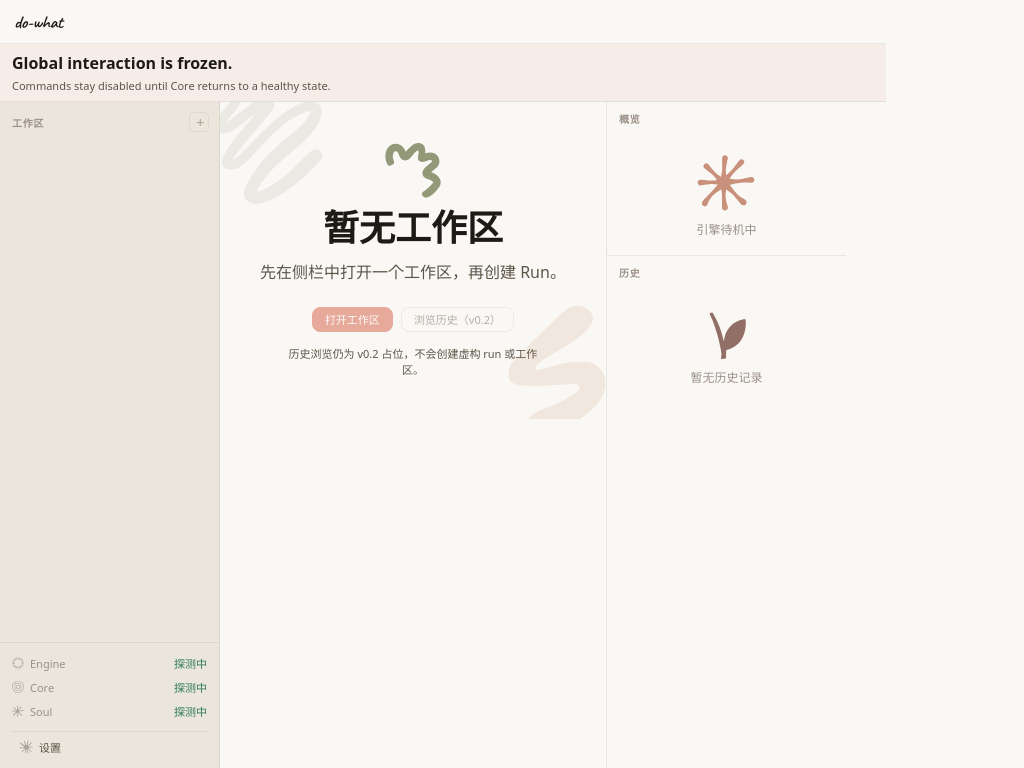
Scenario: AppRoot scaffold › navigates to the settings route, shows the non-persistent banner, and exposes runtime information
The image size is (1024, 768).
Click the link "设置": coordinates (110, 746) [12,731,207,762]
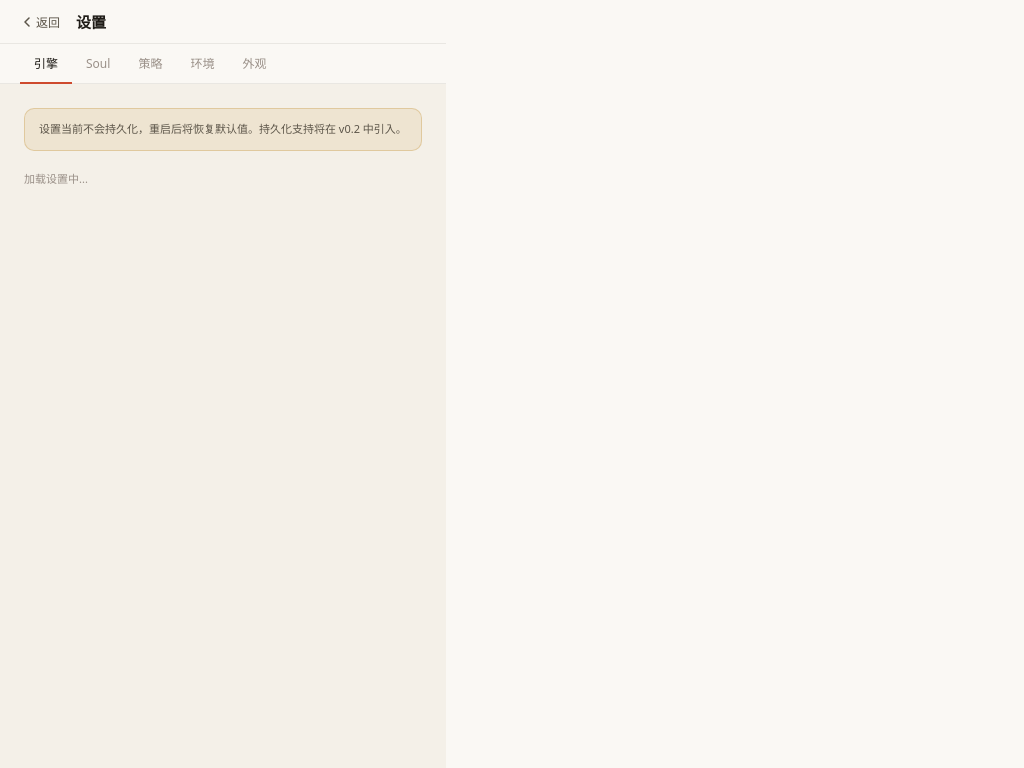
Result: the button "返回" is shown at [16,10,66,34]
Result: the text "设置" is shown at [76,11,106,32]
Result: the text "设置当前不会持久化，重启后将恢复默认值。持久化支持将在 v0.2 中引入。" is shown at [24,108,422,150]
Click the button "环境": coordinates (202, 64) [176,44,228,84]
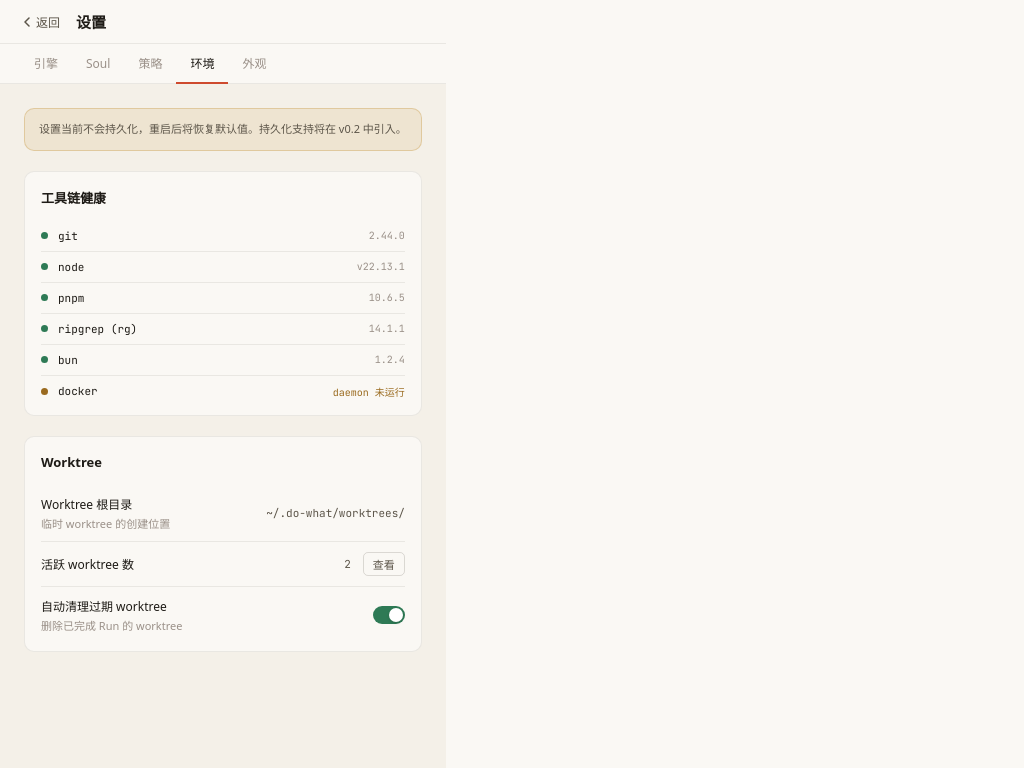
Result: the text "git" is shown at [58,228,78,242]
Result: the text "node" is shown at [58,260,84,274]
